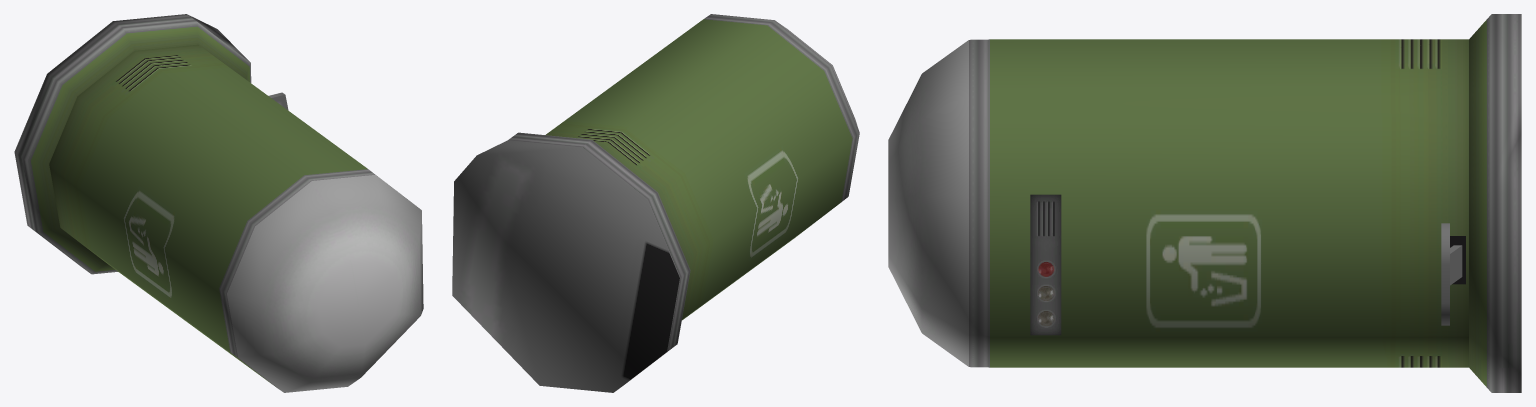
File: nt_trash_compactor_green_LOD2.obj
3 renders of one model, left to right at view 1: azimuth 30°, elevation 25°; view 2: azimuth 150°, elevation 25°; view 3: azimuth 270°, elevation 25°, orthographic. The views are drawn at different scales.
Visible parts, largest first — view 1: mtl_nt_trash_compactor; view 2: mtl_nt_trash_compactor; view 3: mtl_nt_trash_compactor.
Part boxes in pixels (x1,y1,x2,y2): mtl_nt_trash_compactor: (14, 14, 423, 392); mtl_nt_trash_compactor: (452, 14, 859, 392); mtl_nt_trash_compactor: (888, 14, 1521, 392).
Bounding box in the file's own units: 59.9 × 57.85 × 94.8.
